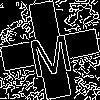M: (25, 25, 75, 78)
